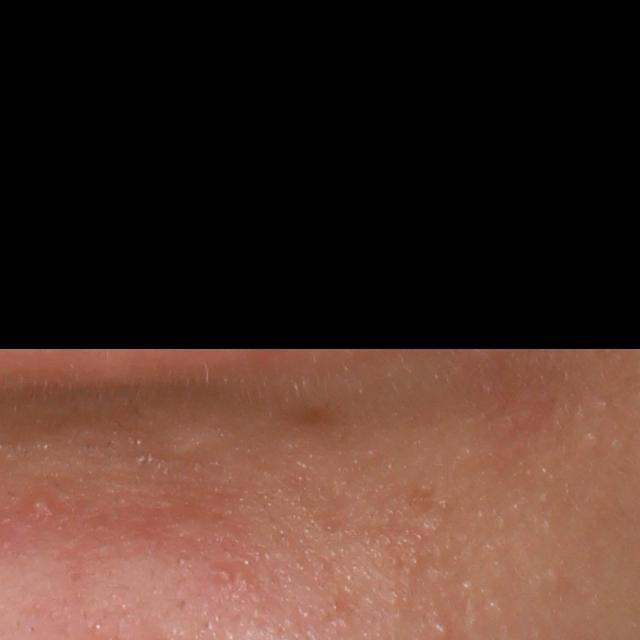hypertrophic_scar: (164, 429, 218, 464)
pustule: (28, 493, 57, 524), (212, 561, 235, 589)
